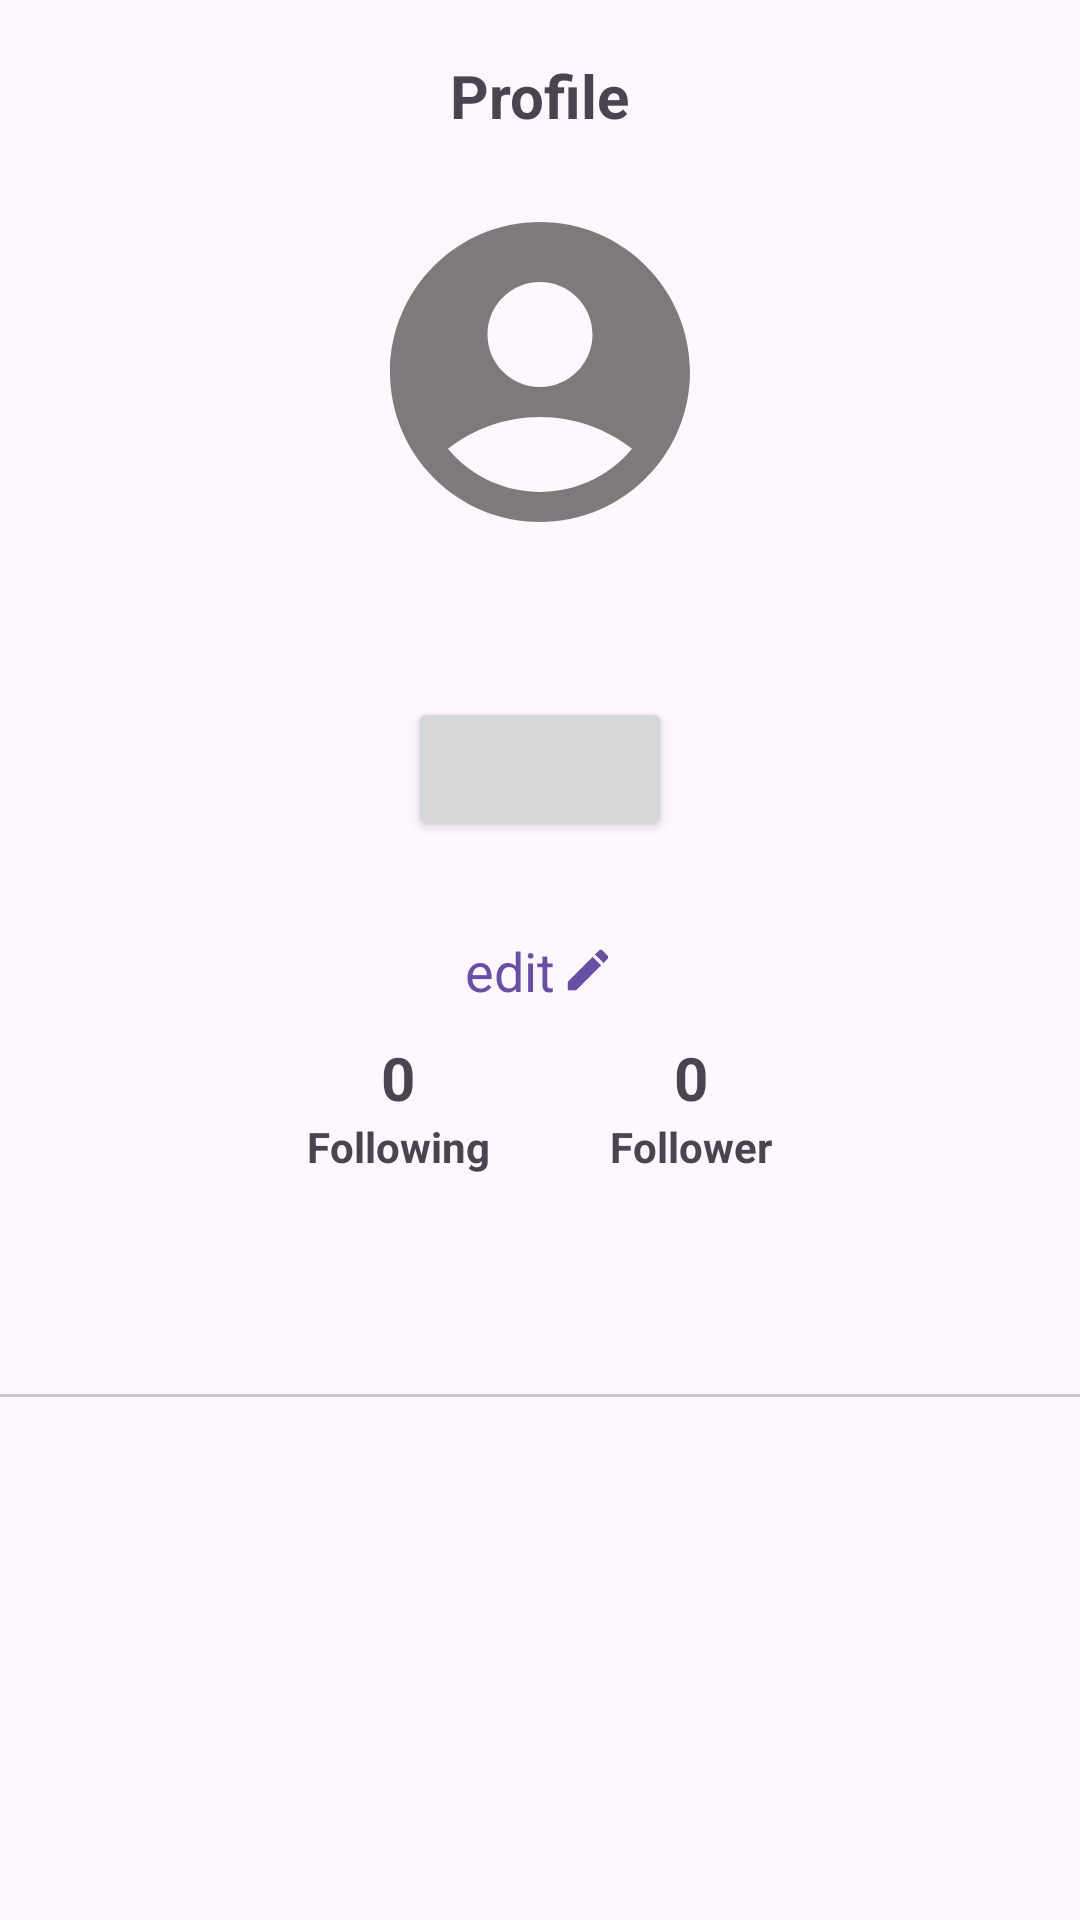

Screen size 1080x1920. Icon name, then its center in pixels as (x=x, y=y):
account circle: (x=540, y=372)
pen: (x=588, y=970)
